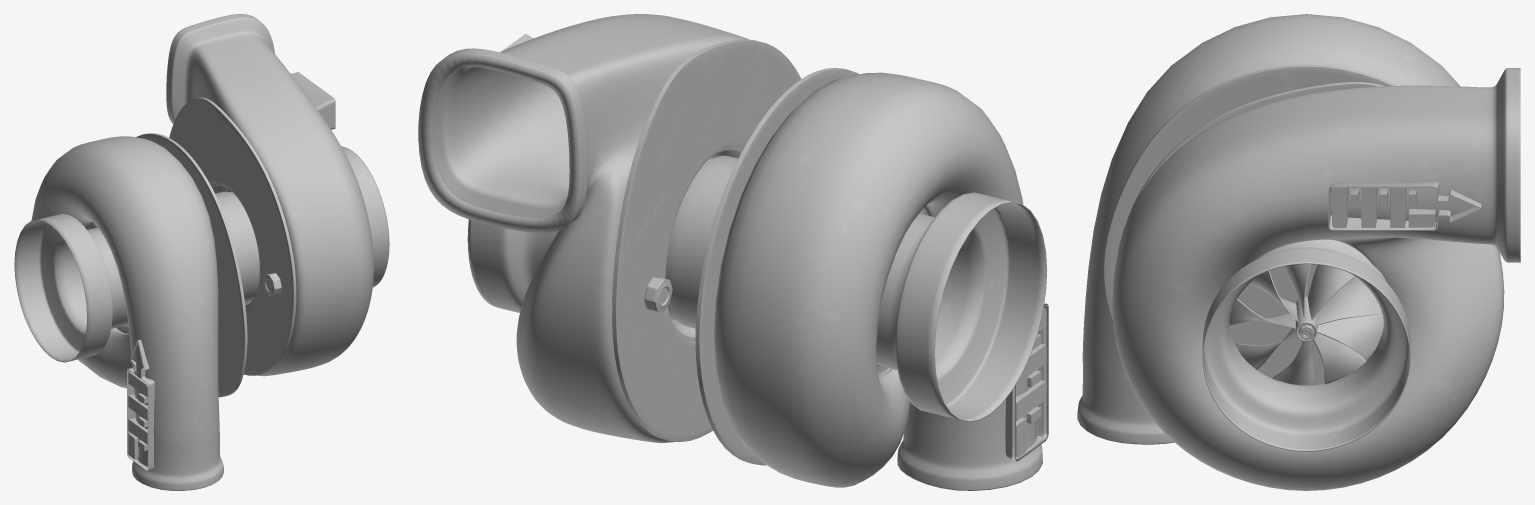
The model's file is car-turbocharger.glb.
3 renders of one model, left to right at view 1: azimuth 30°, elevation 25°; view 2: azimuth 150°, elevation 25°; view 3: azimuth 270°, elevation 25°, orthographic. The views are drawn at different scales.
Visible parts, largest first — view 1: TURBO-Final_metal_0, TURBO-Final_metal-rough_0, TURBO-Final_metal_0.001; view 2: TURBO-Final_metal_0, TURBO-Final_metal-rough_0, TURBO-Final_metal_0.001, TURBO-Final_copper_0; view 3: TURBO-Final_metal-rough_0, TURBO-Final_metal_0, TURBO-Final_metal_0.001, TURBO-Final_metalblack_0.
Part boxes in pixels (x1,y1,x2,y2): TURBO-Final_metal_0: [14, 97, 296, 490]; TURBO-Final_metal-rough_0: [166, 14, 389, 376]; TURBO-Final_metal_0.001: [127, 112, 296, 470]; TURBO-Final_metal_0: [418, 39, 1048, 490]; TURBO-Final_metal-rough_0: [433, 14, 749, 443]; TURBO-Final_metal_0.001: [612, 72, 1048, 461]; TURBO-Final_copper_0: [644, 277, 672, 311]; TURBO-Final_metal-rough_0: [1112, 68, 1520, 490]; TURBO-Final_metal_0: [1077, 14, 1460, 444]; TURBO-Final_metal_0.001: [1104, 66, 1392, 385]; TURBO-Final_metalblack_0: [1229, 264, 1368, 385].
Bounding box in the file's own units: 0.35 × 0.3482 × 0.3127.
1 material, 1 textured.
